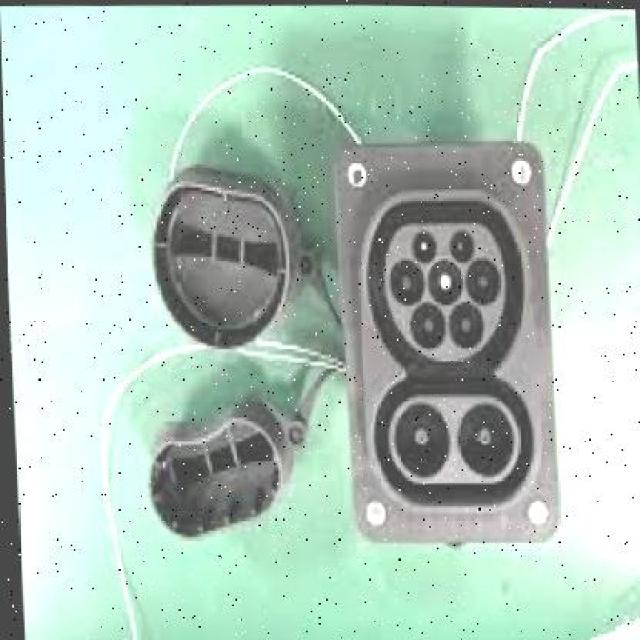CCS2: (361, 196, 547, 522)
